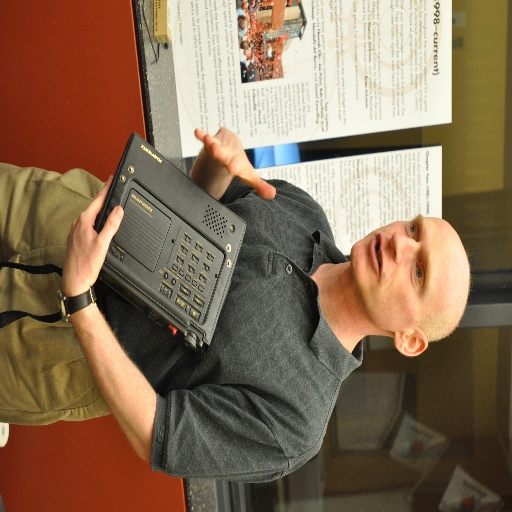hand: (60, 174, 125, 294), (190, 122, 275, 199)
